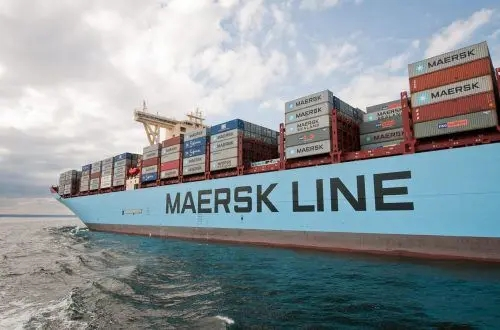Cargoship: (49, 40, 500, 240)
